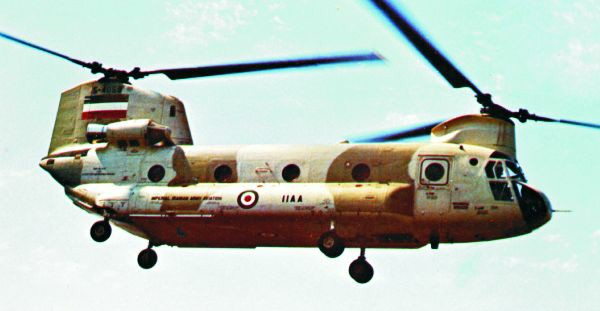chinook: (35, 40, 575, 295)
